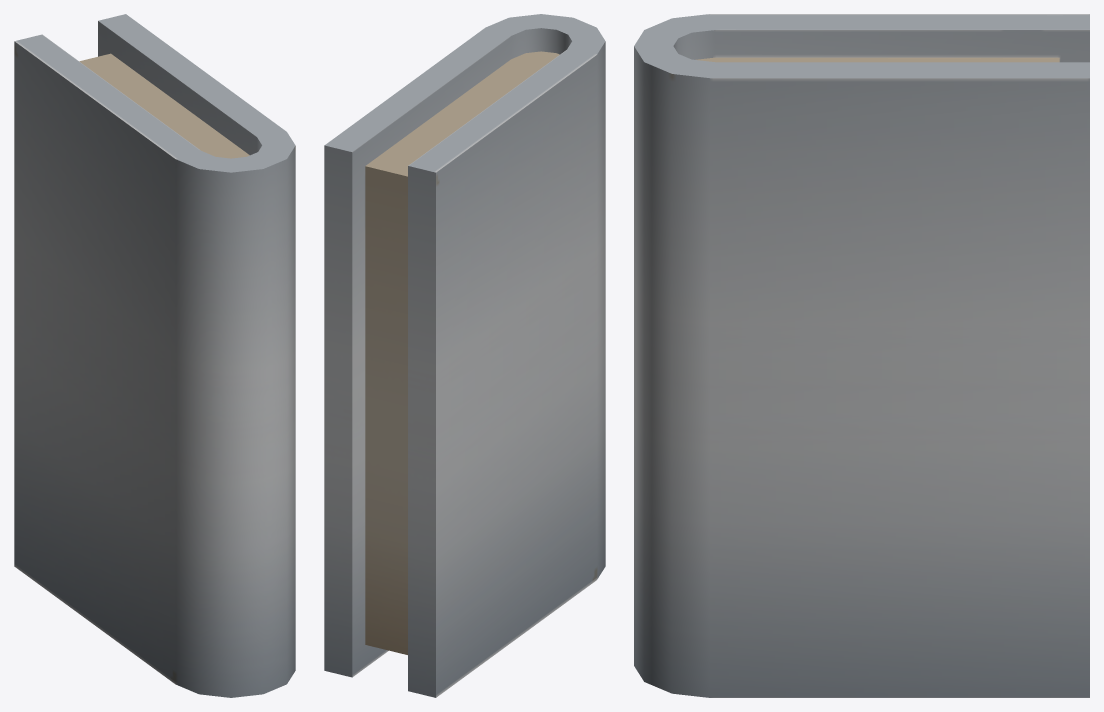
File: BookWhite.fbx
The picture shows the model from 3 angles, left to right: view 1: azimuth 30°, elevation 25°; view 2: azimuth 150°, elevation 25°; view 3: azimuth 270°, elevation 25°; orthographic projection. The views are drawn at different scales.
Parts seen in each view (by area): view 1: BookWhite; view 2: BookWhite; view 3: BookWhite.
Boxes of the visible parts, x1,y1,x2,y2 form: BookWhite: (14,14,295,697); BookWhite: (324,14,605,697); BookWhite: (634,14,1089,697).
Bounding box in the file's own units: 20 × 90 × 60.
